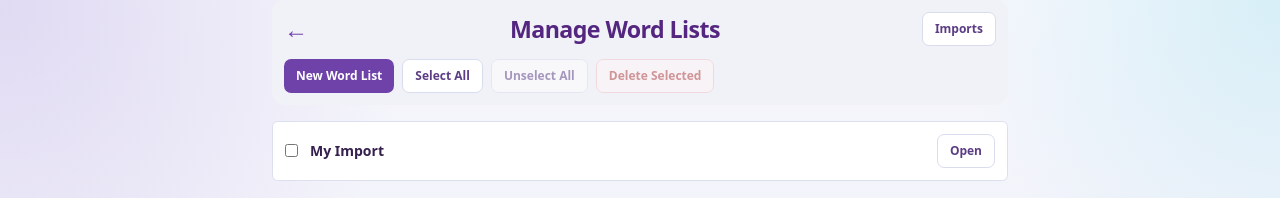
WordListsPage › supports bulk delete from the index
What coordinates should you click on to do the following:
click the checkbox with test id "word-list-select-list-1"
I would click on:
 (292, 151)
Its box is [285, 144, 298, 157].
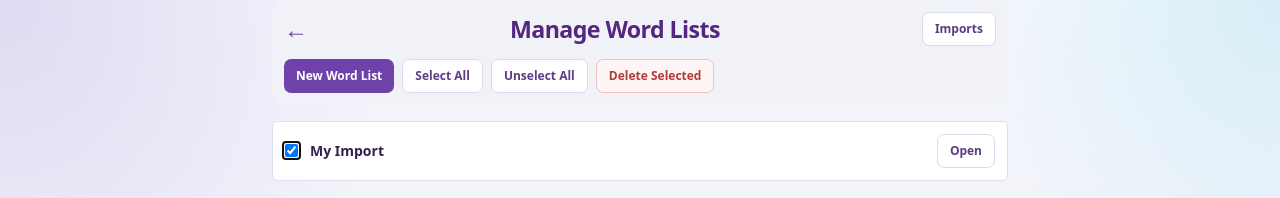
What coordinates should you click on to do the following:
click the button with test id "word-lists-bulk-delete-button"
I would click on:
 (655, 76)
Its box is [596, 59, 714, 93].
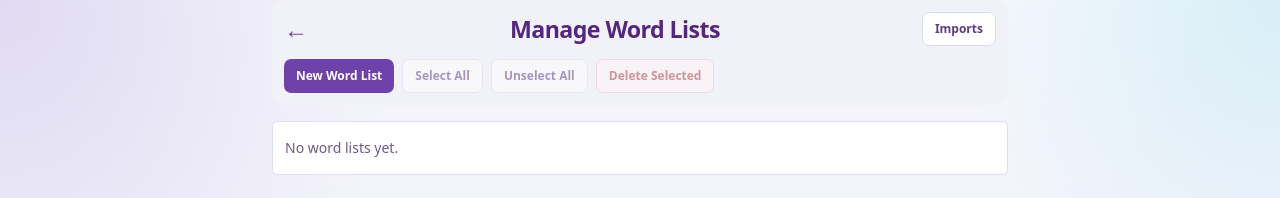
Expected: the text "No word lists yet." is shown, [272, 121, 1008, 175]
